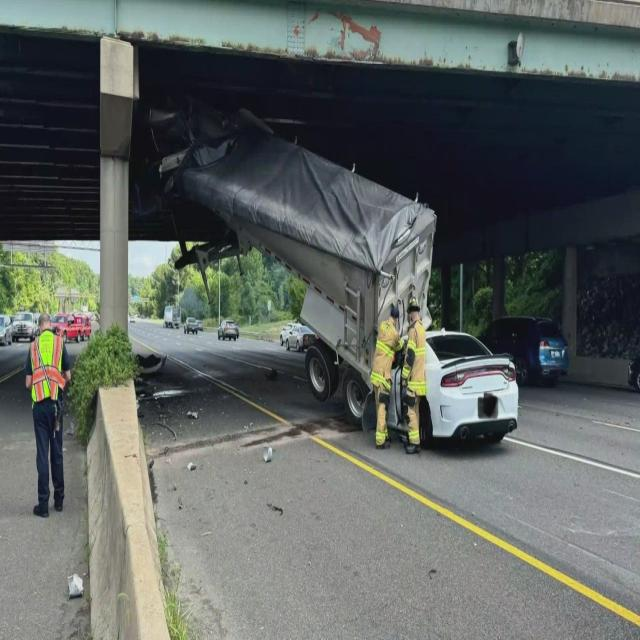Accident: (140, 71, 520, 450)
